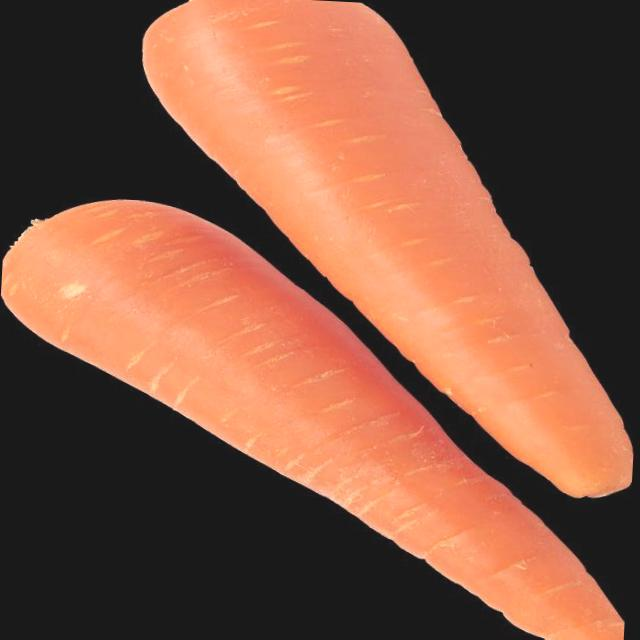carrot: (0, 197, 622, 640), (140, 0, 632, 504)
